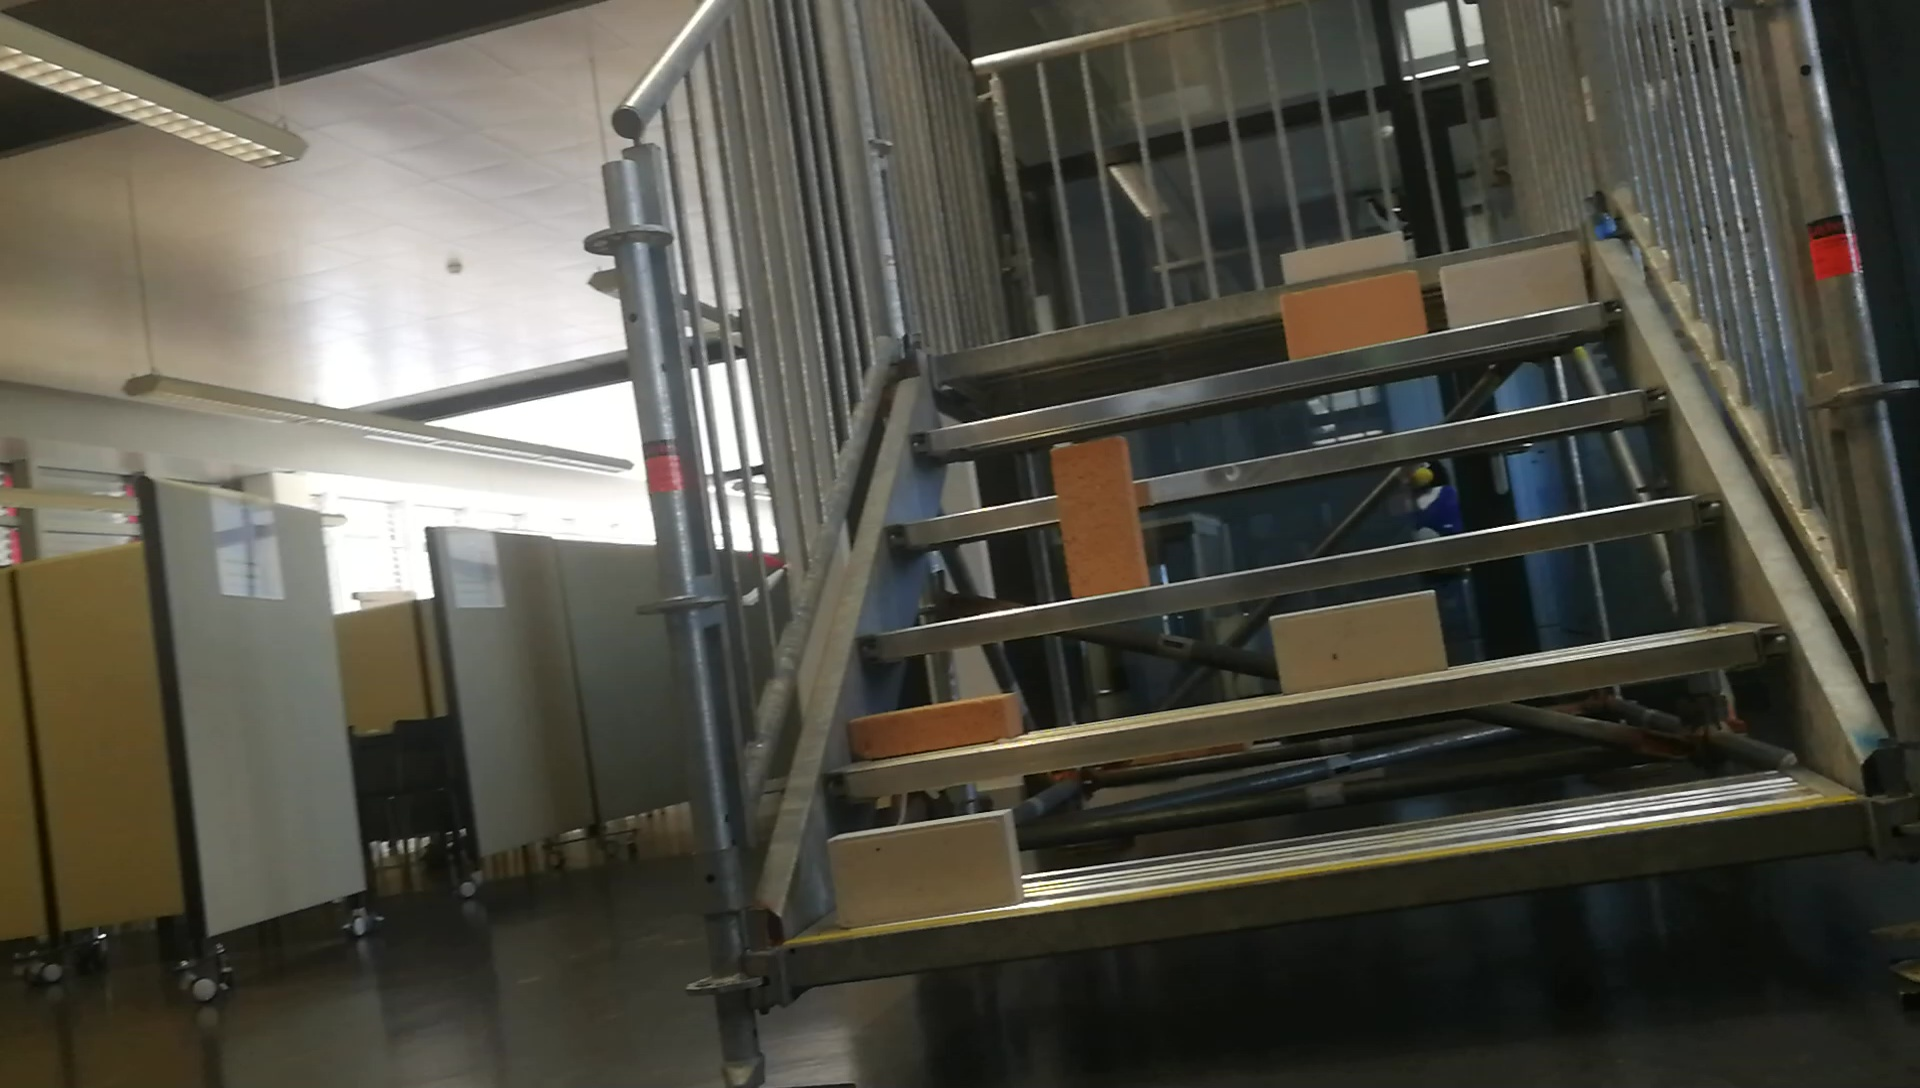brick: (829, 808, 1021, 927), (1273, 591, 1443, 690), (1055, 437, 1150, 599), (1283, 270, 1424, 355), (1443, 247, 1585, 327), (849, 695, 1022, 760), (1280, 232, 1407, 281)
edge: (790, 793, 1873, 985), (820, 620, 1783, 804), (862, 483, 1722, 661), (884, 382, 1665, 553), (913, 295, 1625, 458)
stairs: (578, 3, 1920, 1088)
steps: (753, 226, 1892, 1008)
